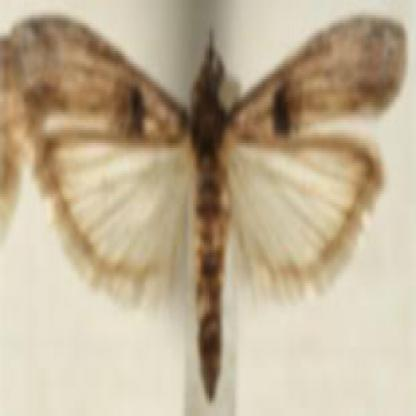Leaf Webber: (16, 5, 409, 413)
